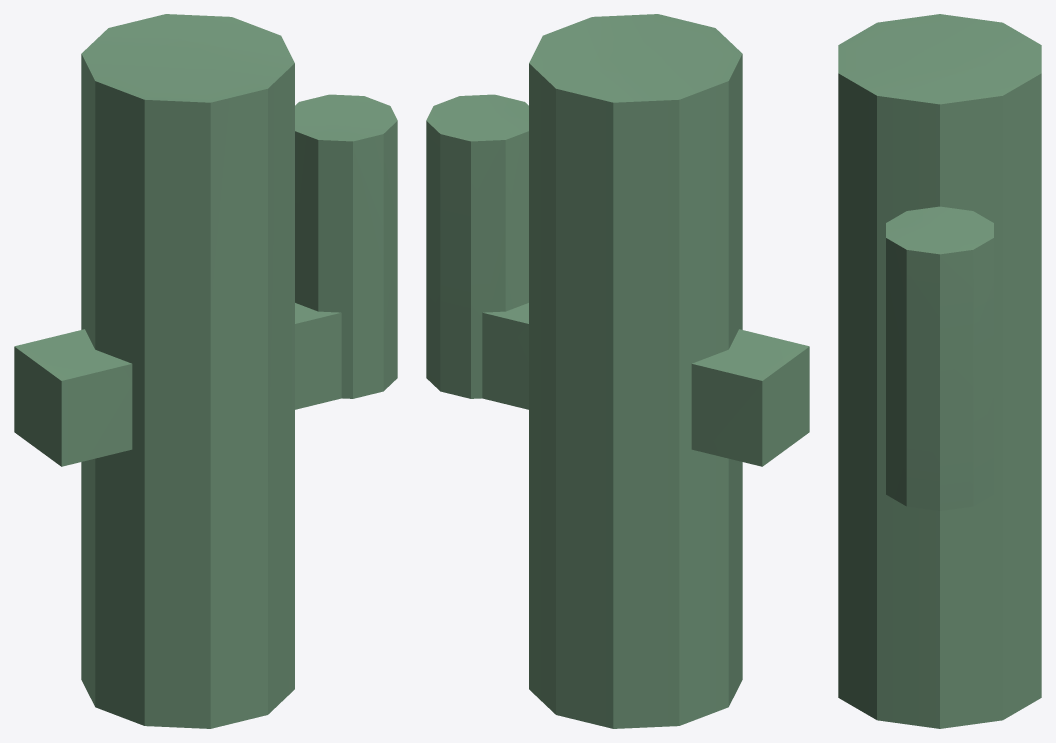
The model's file is cactus-04.glb.
The picture shows the model from 3 angles, left to right: view 1: azimuth 30°, elevation 25°; view 2: azimuth 150°, elevation 25°; view 3: azimuth 270°, elevation 25°; orthographic projection.
Parts seen in each view (by area): view 1: world; view 2: world; view 3: world.
Boxes of the visible parts, x1=… form: world: x1=14, y1=14, x2=397, y2=728; world: x1=426, y1=14, x2=809, y2=728; world: x1=838, y1=14, x2=1041, y2=728.
Bounding box in the file's own units: 0.645 × 1.09 × 0.3234.
